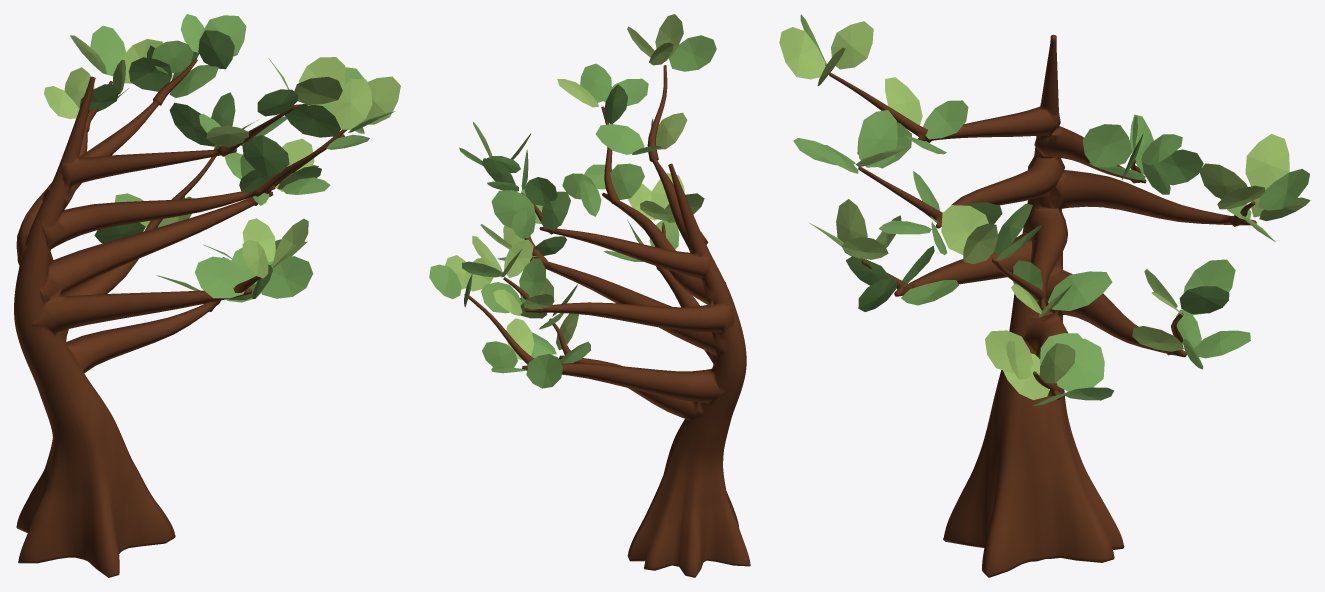
File: Tree_Wind_Swept_LOD2.fbx
3 views of the same model, side by side, from view 1: azimuth 30°, elevation 25°; view 2: azimuth 150°, elevation 25°; view 3: azimuth 270°, elevation 25° (orthographic). The views are drawn at different scales.
Parts seen in each view (by area): view 1: Tree_Wind_Swept_Bark_LOD2_FBX_Triangulated, Tree_Wind_Swept_Foliage_LOD2_FBX_Triangulated; view 2: Tree_Wind_Swept_Bark_LOD2_FBX_Triangulated, Tree_Wind_Swept_Foliage_LOD2_FBX_Triangulated; view 3: Tree_Wind_Swept_Foliage_LOD2_FBX_Triangulated, Tree_Wind_Swept_Bark_LOD2_FBX_Triangulated.
Part boxes in pixels (x1,y1,x2,y2): Tree_Wind_Swept_Bark_LOD2_FBX_Triangulated: [14, 58, 347, 577]; Tree_Wind_Swept_Foliage_LOD2_FBX_Triangulated: [44, 14, 400, 302]; Tree_Wind_Swept_Bark_LOD2_FBX_Triangulated: [464, 65, 750, 577]; Tree_Wind_Swept_Foliage_LOD2_FBX_Triangulated: [429, 14, 716, 388]; Tree_Wind_Swept_Foliage_LOD2_FBX_Triangulated: [779, 14, 1310, 405]; Tree_Wind_Swept_Bark_LOD2_FBX_Triangulated: [829, 34, 1256, 577].
Size of the model in its own units: 3.79 by 5.3 by 4.35.
